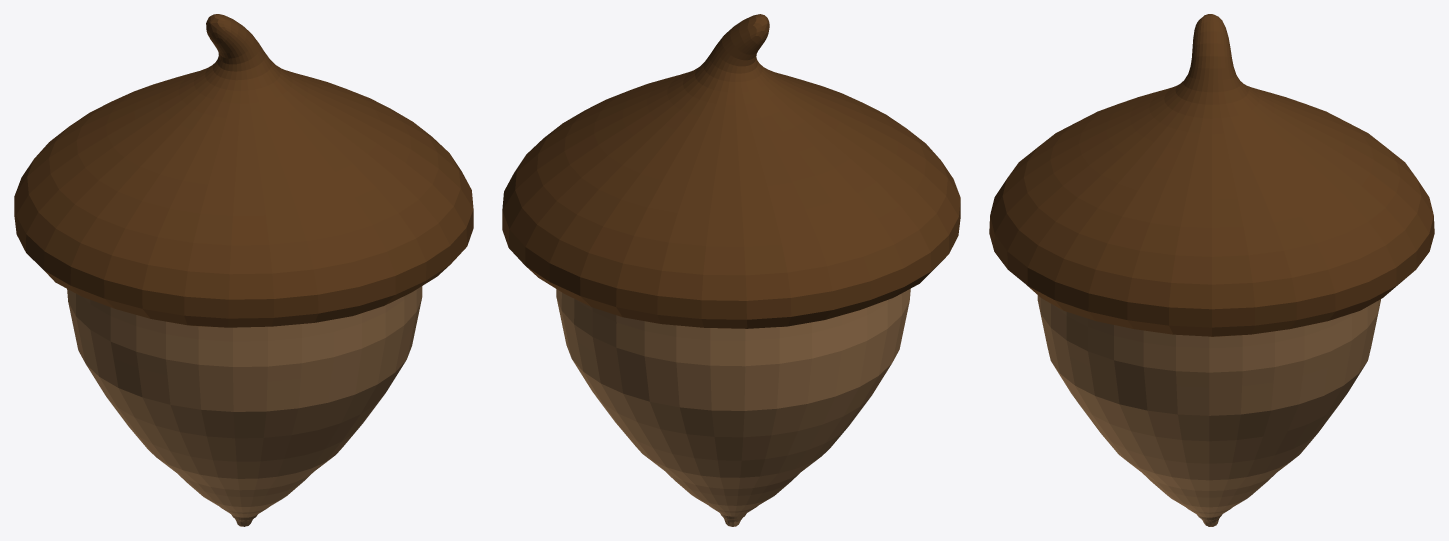
The model's file is acorn.fbx.
3 views of the same model, side by side, from view 1: azimuth 30°, elevation 25°; view 2: azimuth 150°, elevation 25°; view 3: azimuth 270°, elevation 25° (orthographic). The views are drawn at different scales.
Parts seen in each view (by area): view 1: Circle.006; view 2: Circle.006; view 3: Circle.006.
Boxes of the visible parts, bbox=[...] form: Circle.006: bbox=[14, 14, 473, 526]; Circle.006: bbox=[502, 14, 960, 526]; Circle.006: bbox=[989, 14, 1434, 526].
Bounding box in the file's own units: 61.18 × 75.67 × 61.18.
